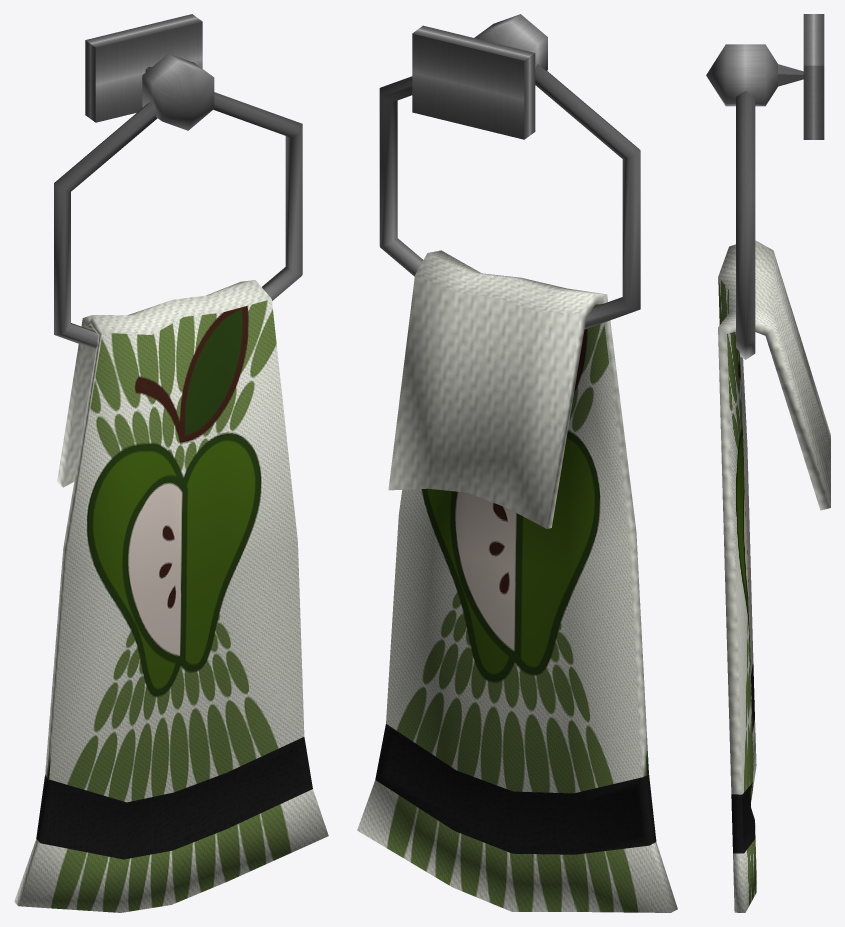
File: Kitchen_Towel_B.FBX
The picture shows the model from 3 angles, left to right: view 1: azimuth 30°, elevation 25°; view 2: azimuth 150°, elevation 25°; view 3: azimuth 270°, elevation 25°; orthographic projection. The views are drawn at different scales.
Parts seen in each view (by area): view 1: Hand_Towel001; view 2: Hand_Towel001; view 3: Hand_Towel001.
Part boxes in pixels (box(x1,y1,x2,y2)): Hand_Towel001: box(14, 14, 328, 912); Hand_Towel001: box(357, 14, 677, 912); Hand_Towel001: box(706, 14, 830, 912).
Size of the model in its own units: 34.08 by 90.19 by 12.18.
